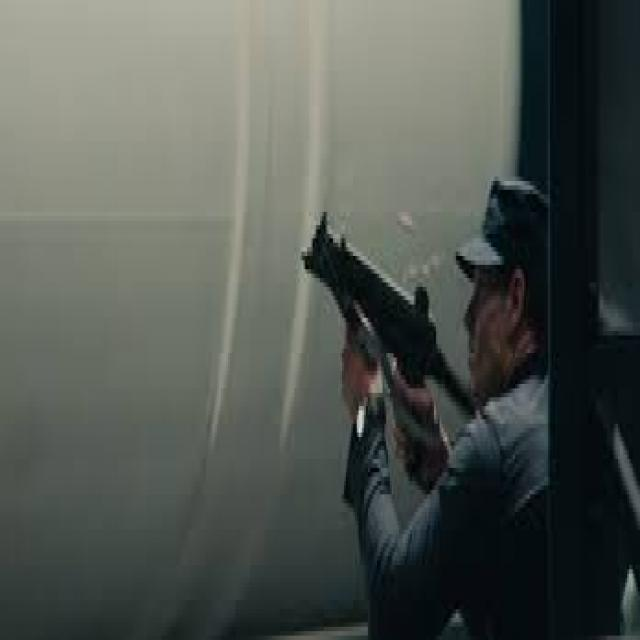weapon: (298, 192, 472, 516)
